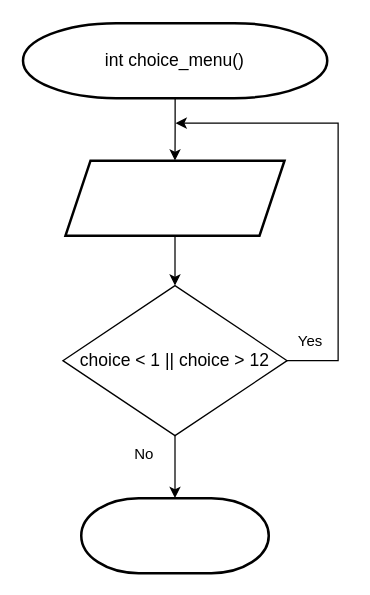
The diagram is 370 pixels wide and 595 high, and some of its shapes have lost their labels. Here are the shapes that lost their labels. From the top down, the box of each, then its label:
(64, 159, 285, 236): Input choice
(79, 496, 269, 574): return choice
